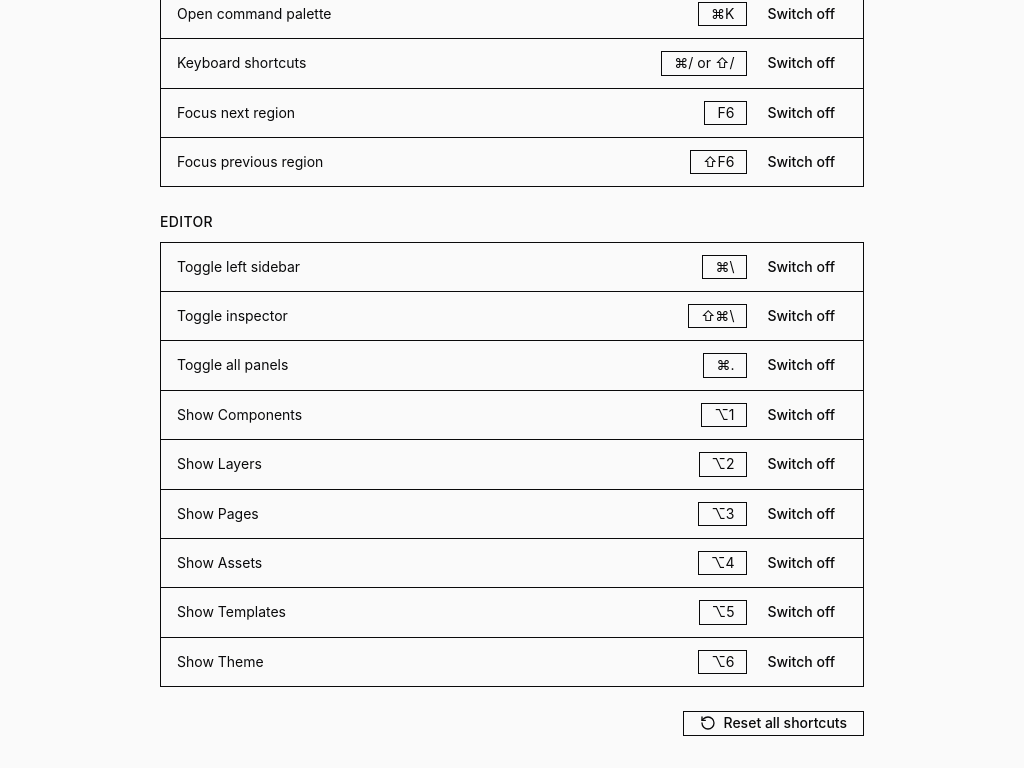
Test: KeyboardSettings › remapping › refuses a key another command already uses here, and names it
(page scrolled)
Click the button "⌥2": point(723, 464) [699, 452, 748, 477]
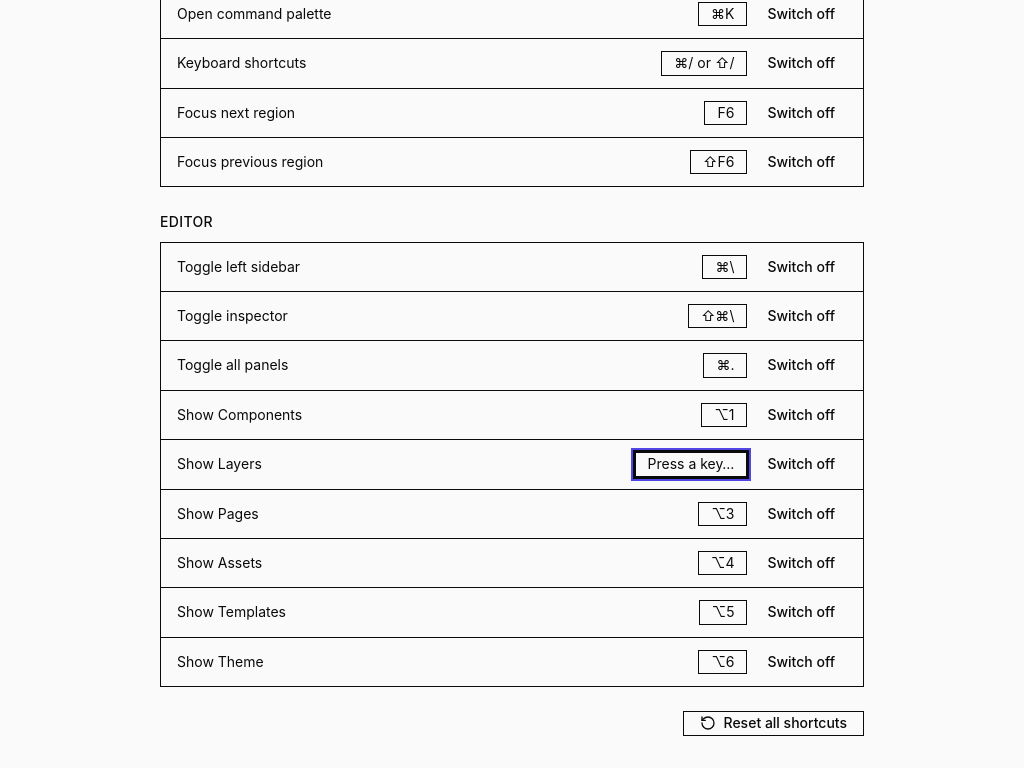
Type keys "{Alt>}1{/Alt}"
(page scrolled)
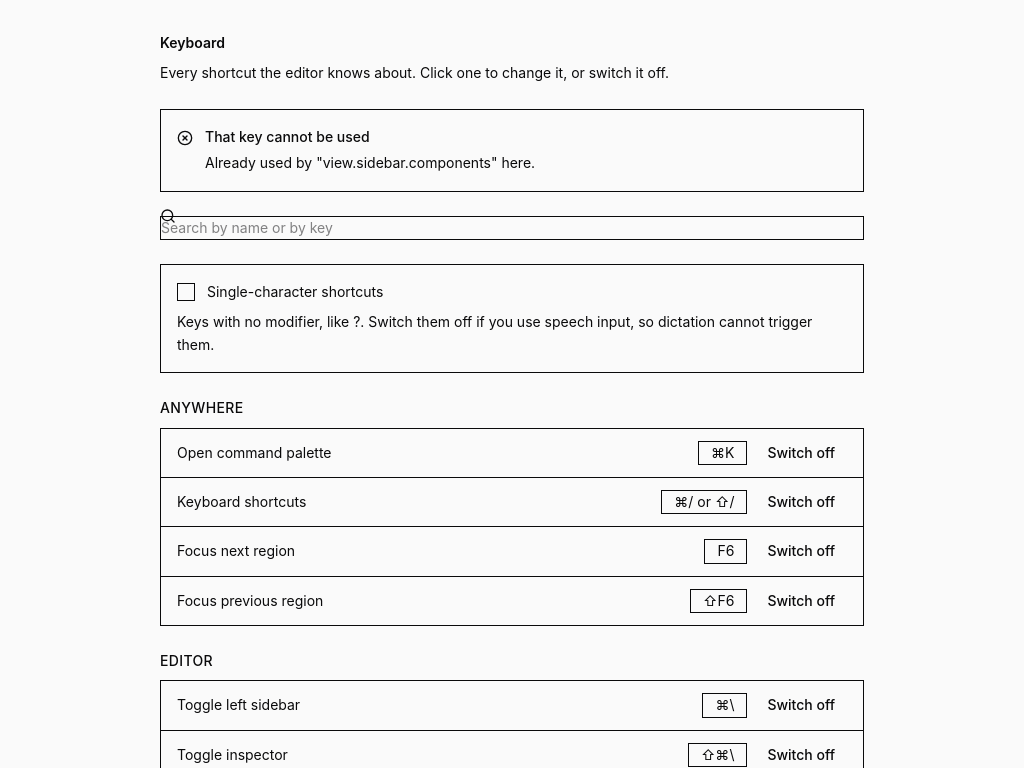
expect the text "Already used by \"view.sidebar.components\" here." is shown: met, box [205, 154, 535, 171]
